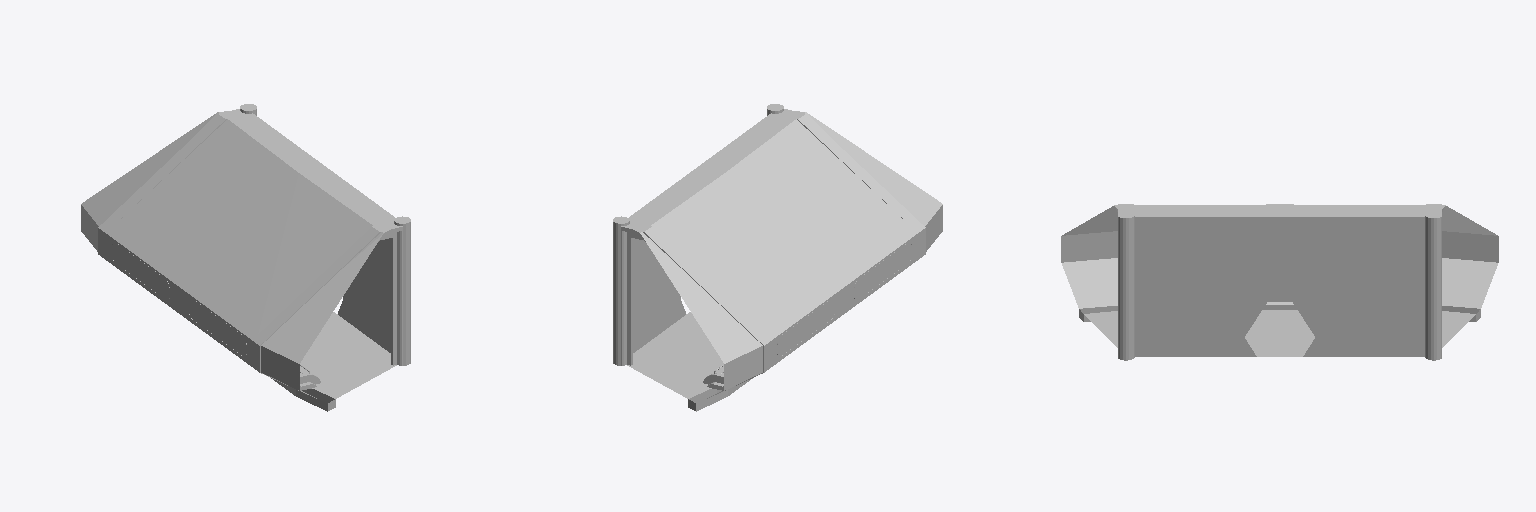
Rendered from lido-entry.obj.
3 views of the same model, side by side, from view 1: azimuth 30°, elevation 25°; view 2: azimuth 150°, elevation 25°; view 3: azimuth 270°, elevation 25° (orthographic).
Parts seen in each view (by area): view 1: lido_01, support00, column01, support01; view 2: lido_01, support01, column00, support00; view 3: lido_01, column01, column00.
Boxes of the visible parts, <box> form: lido_01: <box>81,111,396,411</box>; support00: <box>252,222,402,390</box>; column01: <box>394,216,410,365</box>; support01: <box>98,109,239,258</box>; lido_01: <box>627,111,942,411</box>; support01: <box>621,222,770,390</box>; column00: <box>613,216,629,365</box>; support00: <box>781,109,925,259</box>; lido_01: <box>1061,204,1498,356</box>; column01: <box>1118,211,1134,360</box>; column00: <box>1425,211,1441,360</box>.
Size of the model in its own units: 11.58 by 10.78 by 28.42.